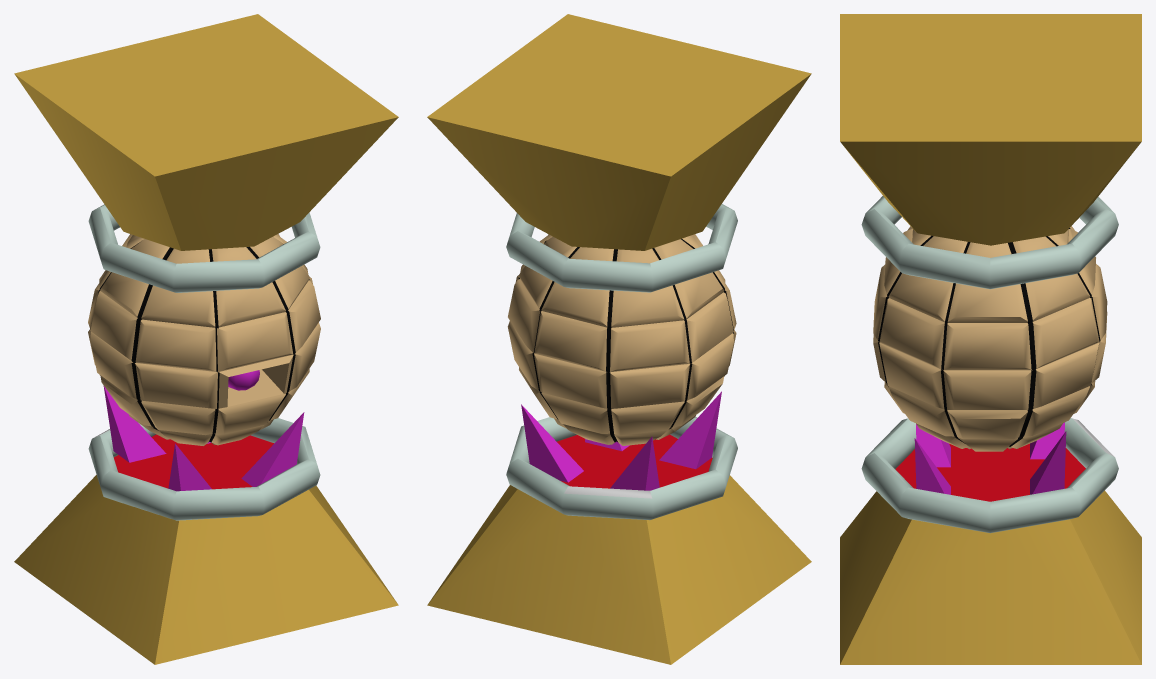
The model's file is nou.fbx.
3 views of the same model, side by side, from view 1: azimuth 30°, elevation 25°; view 2: azimuth 150°, elevation 25°; view 3: azimuth 270°, elevation 25° (orthographic). The views are drawn at different scales.
Visible parts, largest first — view 1: obj1; view 2: obj1; view 3: obj1.
Boxes of the visible parts, x1,y1,x2,y2 form: obj1: (14,14,398,664); obj1: (427,14,811,664); obj1: (840,14,1141,664).
Bounding box in the file's own units: 200 × 383 × 200.
